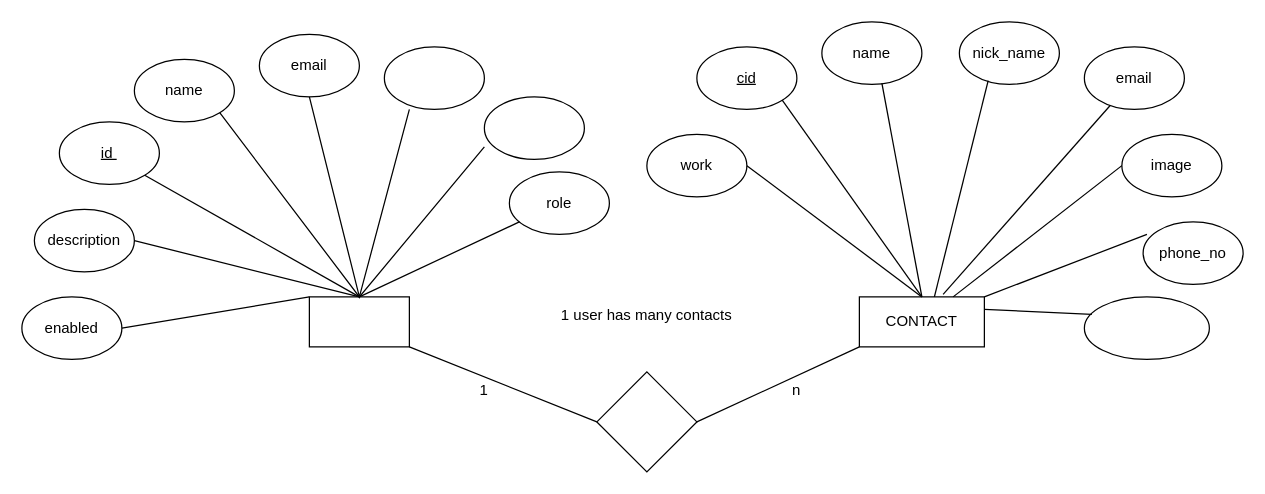
This 1265x494 diagram has some shape labels left out. Here are the shapes that lost their labels. From the top down, the centre of each, then its label:
point (433, 77): password
point (533, 127): profile photo/image
point (358, 321): USER Entity
point (1146, 327): long_description
point (646, 421): HAS
